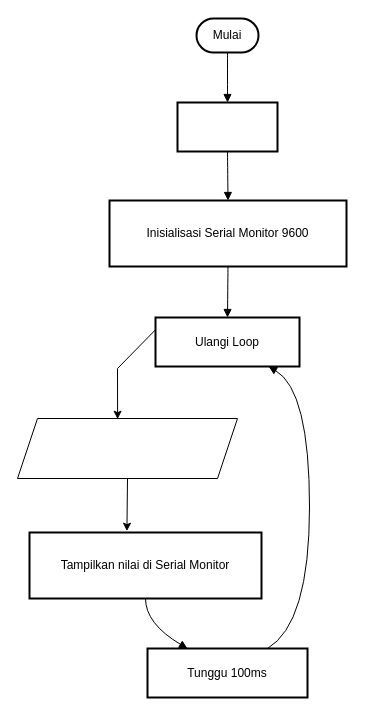
This 365x715 diagram has some shape labels left out. Here are the shapes that lost their labels. From the top down, the centre of each, then its label:
At pixel 227 126: "Setup".
At pixel 127 448: "Baca nilai potensiometer di A0".
